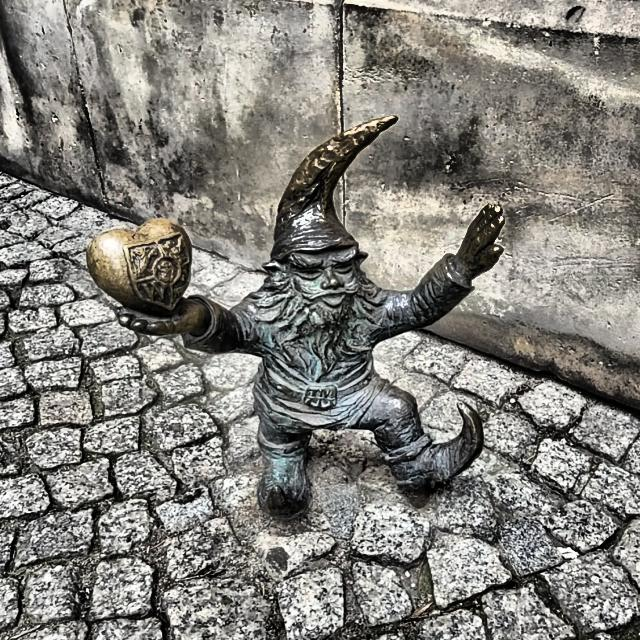WrocLovek: (88, 117, 504, 520)
